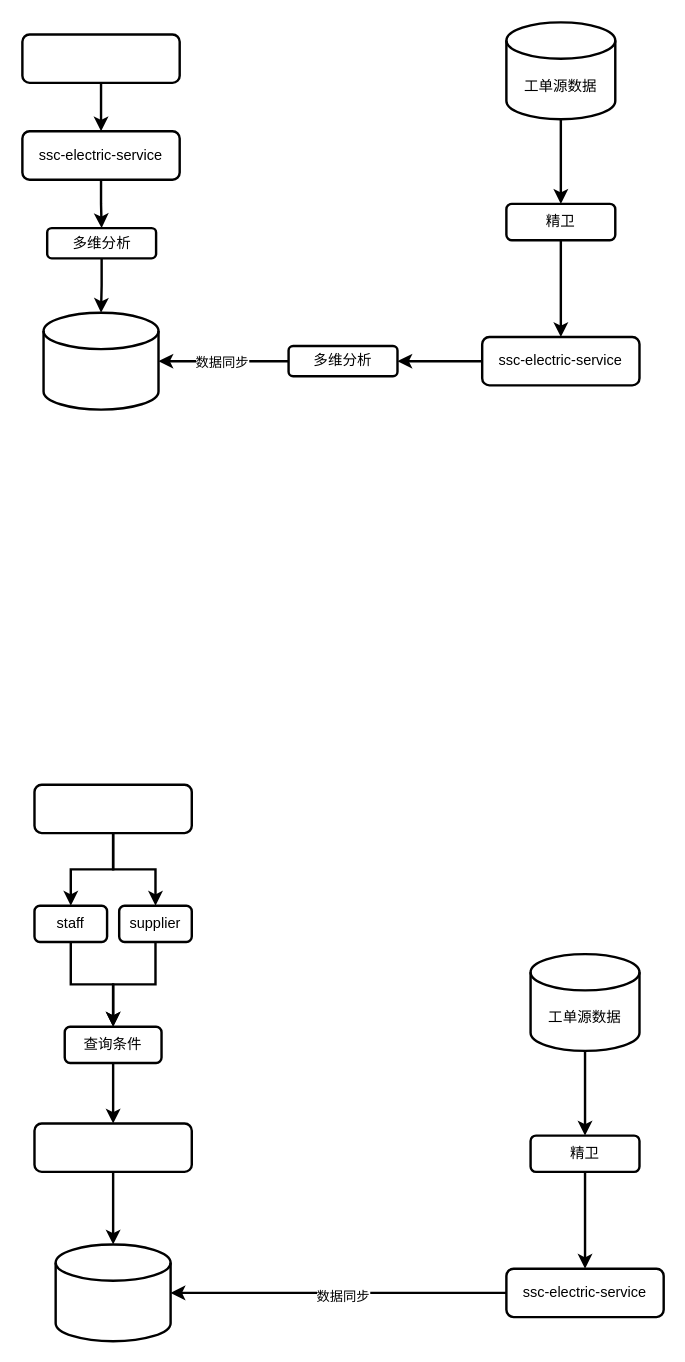
Image size: 685x1362. Some labels were removed from this diagram. Here are the shapes that lost their labels. From the top down, the box of each, then its label:
(21, 33, 180, 83): ssc-electric-workbench
(42, 311, 159, 410): ADB ssc_electric_ workcard_data
(33, 783, 192, 834): ssc-home-workbench
(33, 1122, 192, 1172): ssc-homedecoration
(54, 1243, 171, 1342): ADB ssc_home _decoration
